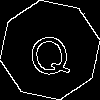Q: (25, 25, 73, 80)
